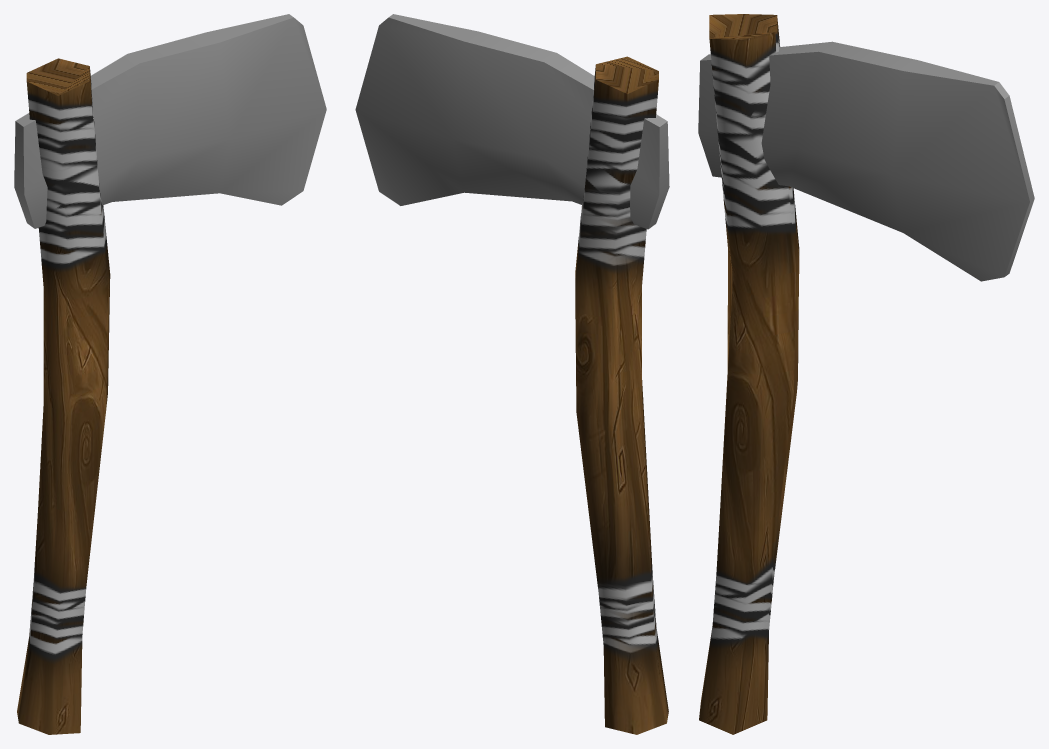
File: accetta.FBX
3 views of the same model, side by side, from view 1: azimuth 30°, elevation 25°; view 2: azimuth 150°, elevation 25°; view 3: azimuth 330°, elevation 25° (orthographic). The views are drawn at different scales.
Parts seen in each view (by area): view 1: Box005; view 2: Box005; view 3: Box005.
Boxes of the visible parts, x1,y1,x2,y2 form: Box005: (14,14,326,734); Box005: (355,14,669,734); Box005: (698,14,1034,734).
Size of the model in its own units: 35.41 by 71.53 by 7.23.
Materials: 2 (1 with a texture image).
